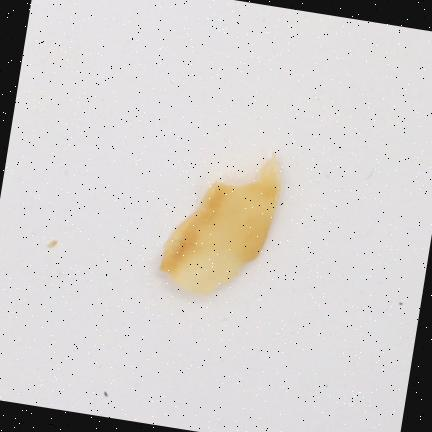parchment: (160, 156, 280, 294)
